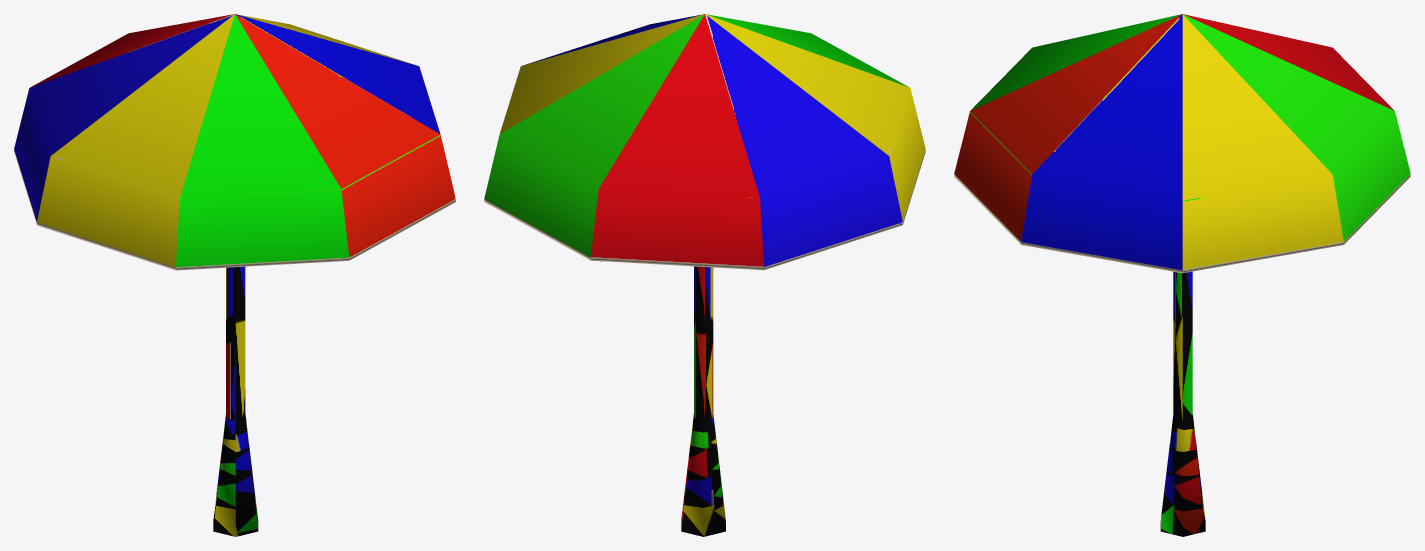
The model's file is Umbrella.fbx.
3 views of the same model, side by side, from view 1: azimuth 30°, elevation 25°; view 2: azimuth 150°, elevation 25°; view 3: azimuth 270°, elevation 25° (orthographic).
Visible parts, largest first — view 1: Canopy Section 8, Handle_Base, Handle_Main; view 2: Canopy Section 8, Handle_Base, Handle_Main; view 3: Canopy Section 8, Handle_Base, Handle_Main.
Boxes of the visible parts, x1,y1,x2,y2 form: Canopy Section 8: (14, 14, 455, 270); Handle_Base: (213, 414, 258, 536); Handle_Main: (226, 266, 245, 420); Canopy Section 8: (484, 14, 925, 270); Handle_Base: (681, 414, 725, 536); Handle_Main: (694, 266, 713, 420); Canopy Section 8: (954, 14, 1410, 273); Handle_Base: (1160, 414, 1205, 536); Handle_Main: (1173, 271, 1192, 420).
Size of the model in its own units: 3.11 by 3.84 by 3.11.
